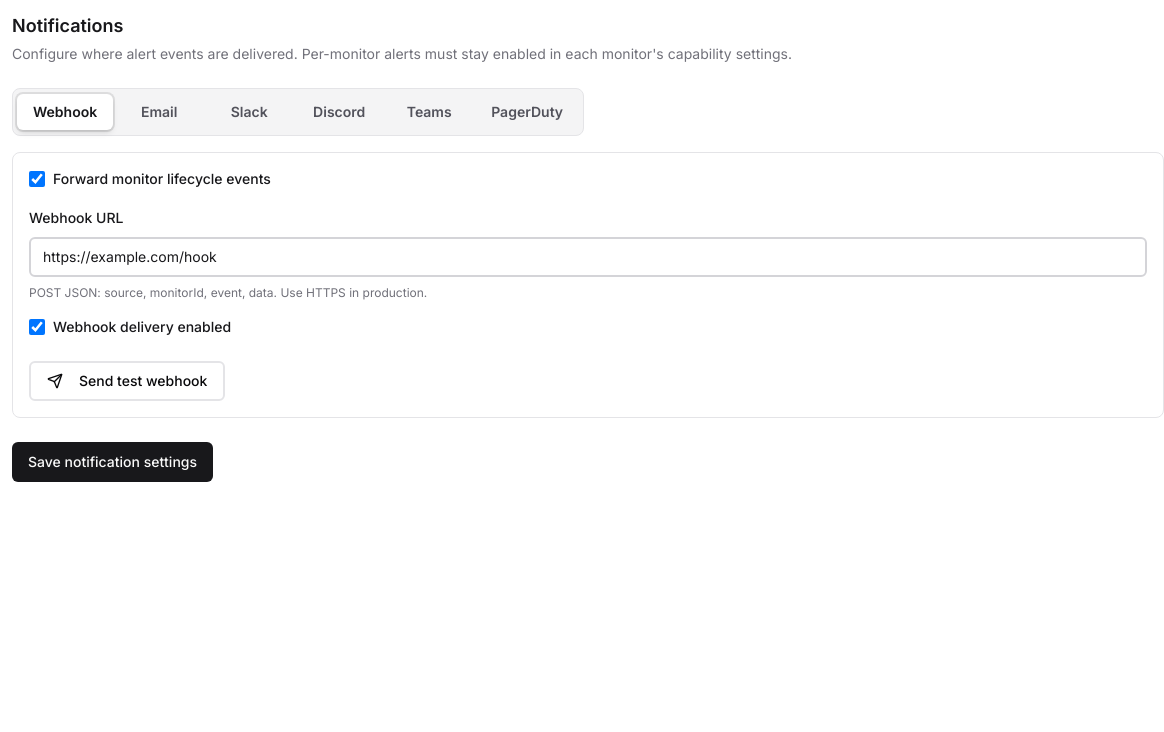
Scenario: NotificationChannelSettings › renders email section once the tab is activated
The image size is (1164, 732).
Step 1. Click the button "Email" → (159, 112), box [115, 94, 203, 130]
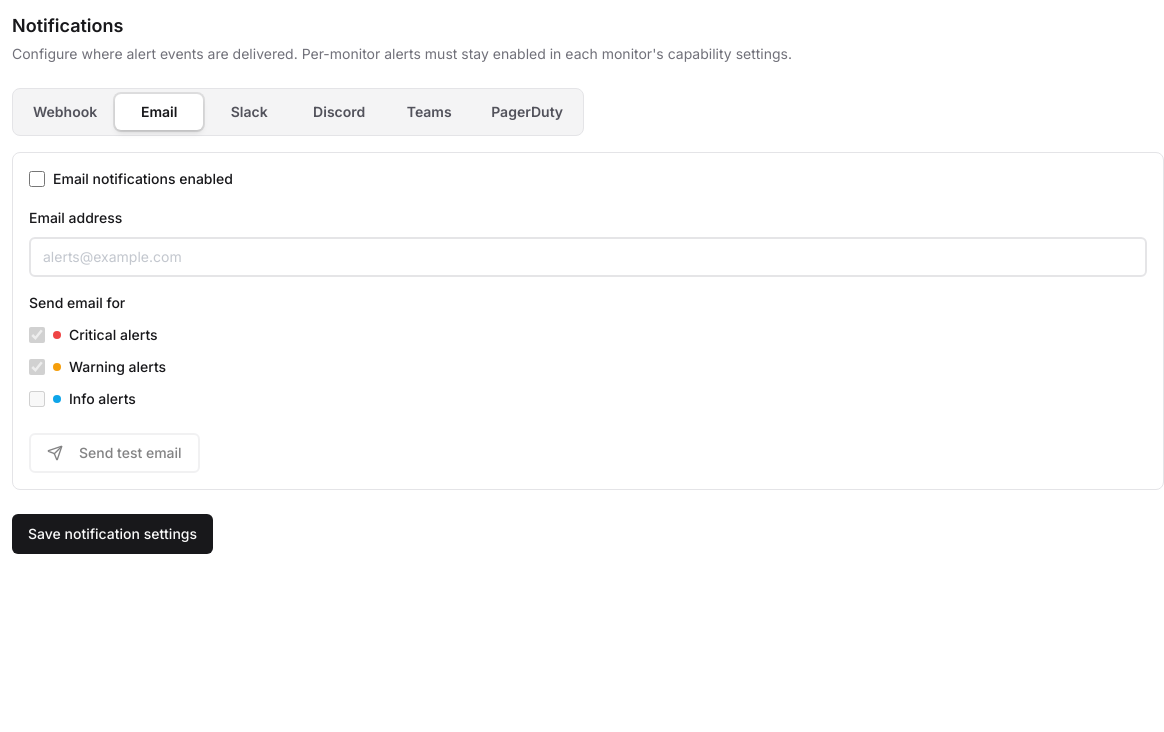
Expected: the text "Email notifications enabled" is shown, [53, 169, 233, 189]
Expected: the field labelled "Email address" is shown, [29, 237, 1147, 277]
Expected: the text "Critical alerts" is shown, [69, 325, 158, 345]
